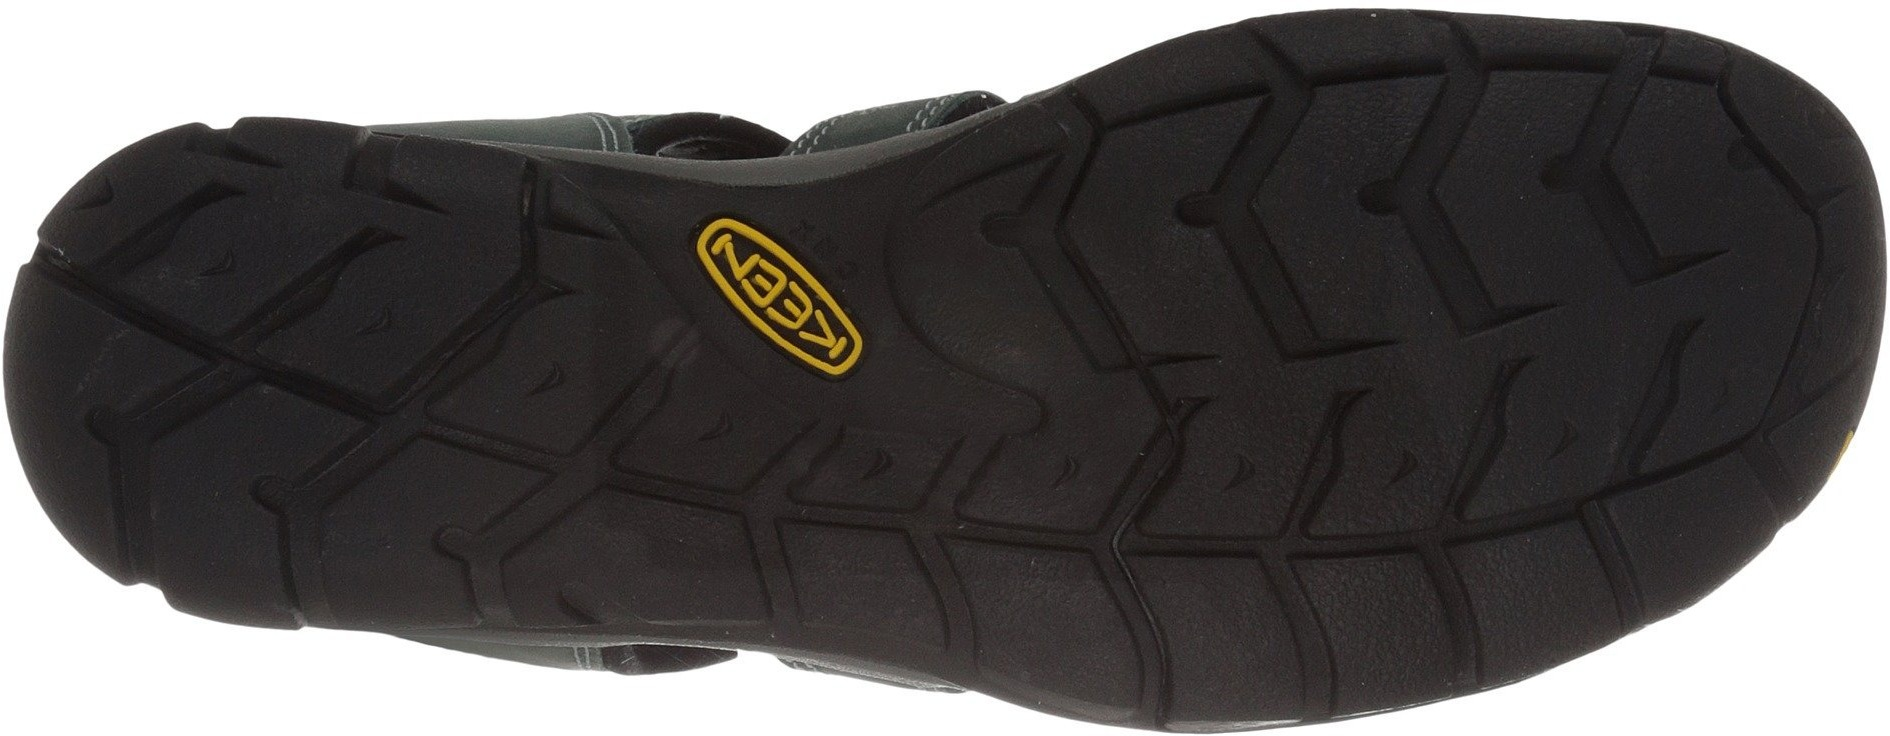chevron: (1091, 71, 1413, 371), (60, 341, 333, 632), (1446, 37, 1698, 296)
quad: (944, 506, 1160, 722), (1292, 370, 1495, 557)
text: (685, 214, 853, 379)
